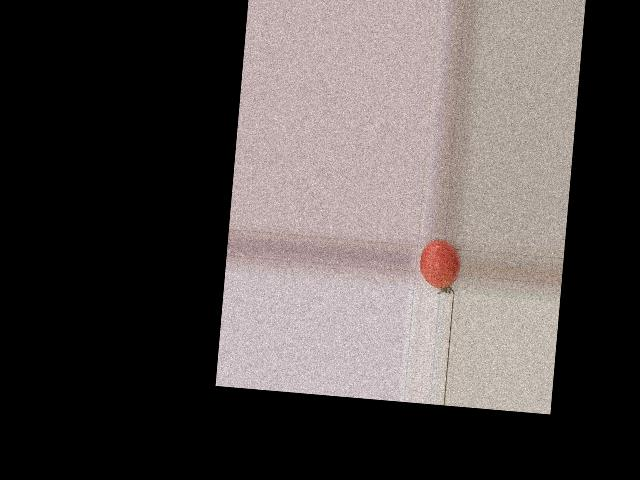tomato: (417, 238, 462, 290)
